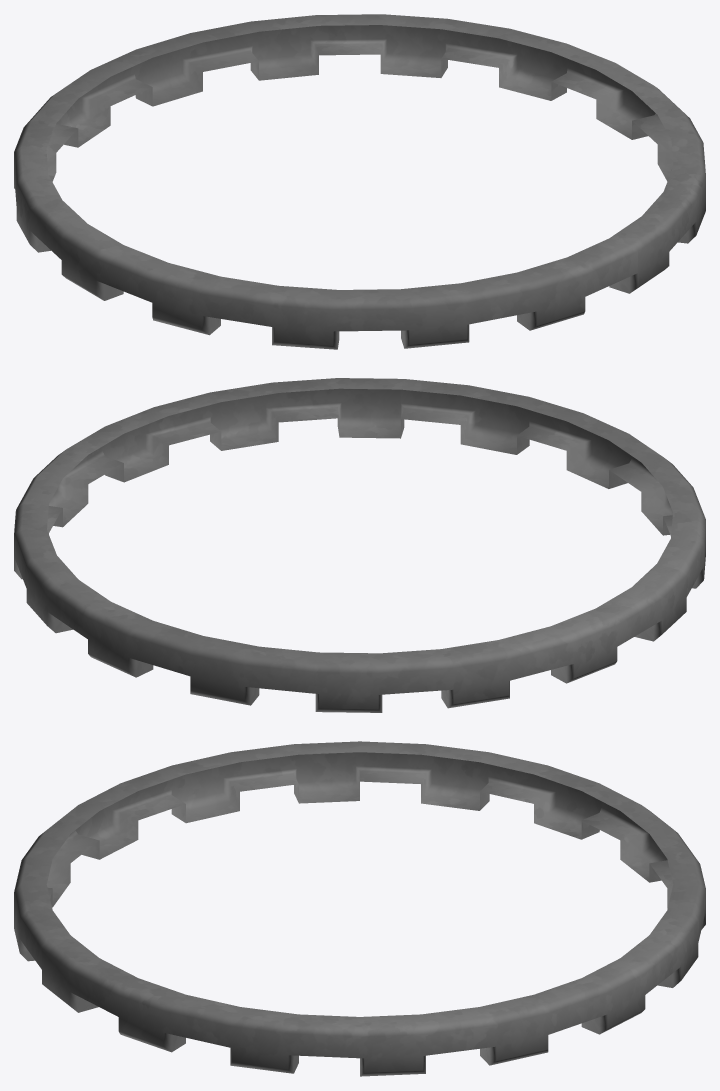
File: Tower_TrimV3.fbx
3 views of the same model, one above another, from view 1: azimuth 30°, elevation 25°; view 2: azimuth 150°, elevation 25°; view 3: azimuth 270°, elevation 25° (orthographic).
Visible parts, largest first — view 1: Tower_TrimV3; view 2: Tower_TrimV3; view 3: Tower_TrimV3.
Part boxes in pixels (x1,y1,x2,y2): Tower_TrimV3: (14,14,705,349); Tower_TrimV3: (14,378,705,712); Tower_TrimV3: (14,741,705,1076).
Bounding box in the file's own units: 527 × 41.06 × 527.
1 material, 1 textured.
